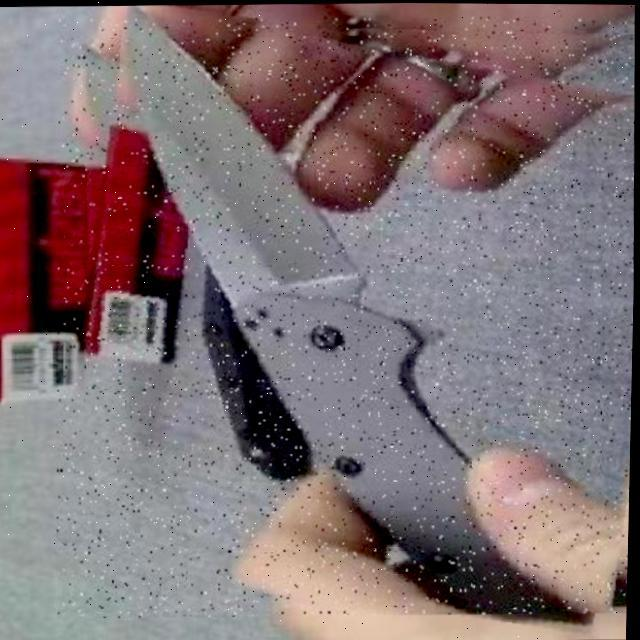knife: (48, 8, 640, 620)
